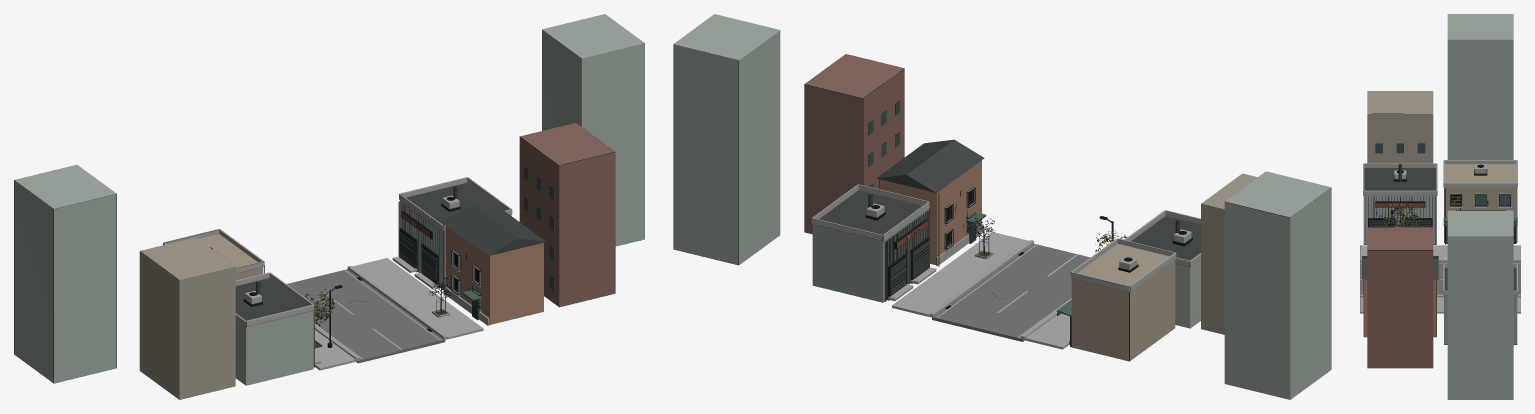
File: city_hd_12.glb
The picture shows the model from 3 angles, left to right: view 1: azimuth 30°, elevation 25°; view 2: azimuth 150°, elevation 25°; view 3: azimuth 270°, elevation 25°; orthographic projection. The views are drawn at different scales.
Visible parts, largest first — view 1: Background city building, CITY_PBR_asphalt, CITY_PBR_pavement, CITY_curb; view 2: Background city building, CITY_PBR_asphalt, CITY_PBR_pavement, CITY_curb; view 3: Background city building, CITY_PBR_pavement, CITY_PBR_asphalt, CITY_ac_paint.
Part boxes in pixels (x1=…): Background city building: x1=14, y1=14, x2=644, y2=399; CITY_PBR_asphalt: x1=287, y1=269, x2=445, y2=363; CITY_PBR_pavement: x1=315, y1=258, x2=483, y2=370; CITY_curb: x1=315, y1=265, x2=447, y2=361; Background city building: x1=673, y1=14, x2=1331, y2=399; CITY_PBR_asphalt: x1=932, y1=243, x2=1090, y2=341; CITY_PBR_pavement: x1=892, y1=232, x2=1069, y2=349; CITY_curb: x1=930, y1=240, x2=1071, y2=339; Background city building: x1=1362, y1=14, x2=1517, y2=399; CITY_PBR_pavement: x1=1360, y1=245, x2=1520, y2=313; CITY_PBR_asphalt: x1=1360, y1=262, x2=1520, y2=294; CITY_ac_paint: x1=1394, y1=164, x2=1486, y2=179.
Bounding box in the file's own units: 56.65 × 18.26 × 16.
Materials: 9 (1 with a texture image).
